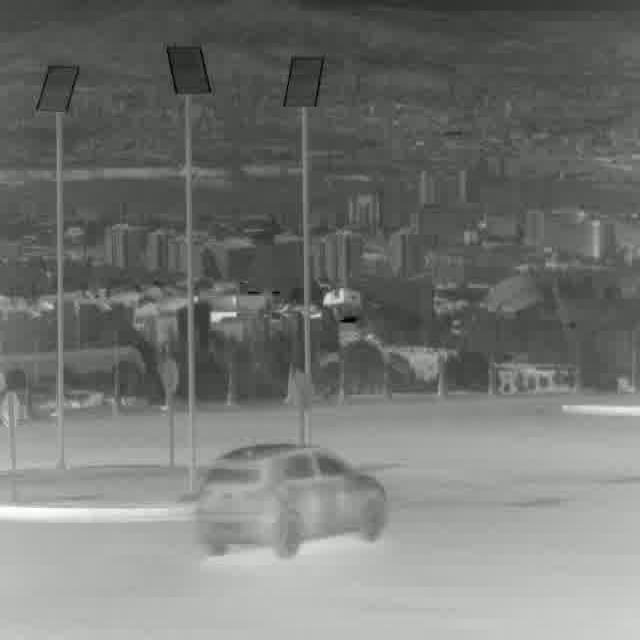Car: (193, 444, 386, 560)
